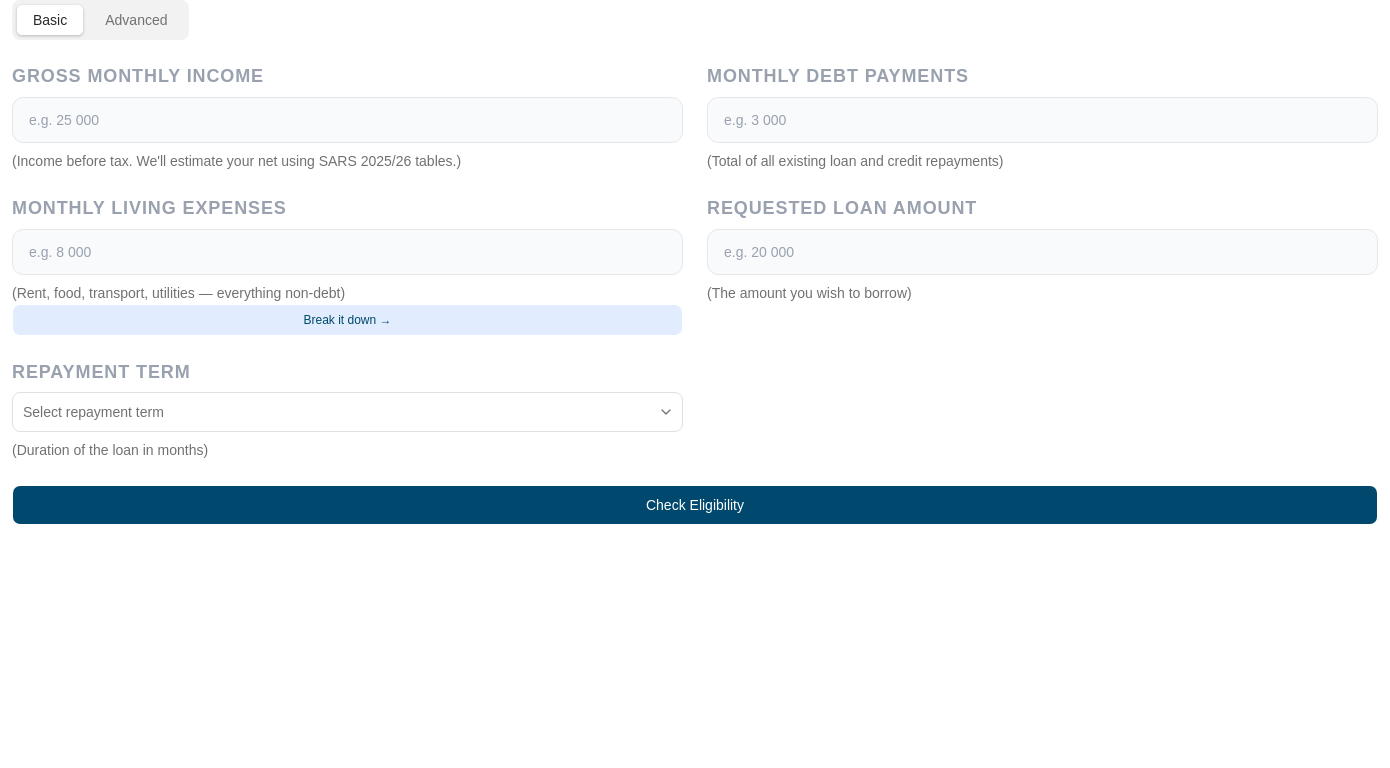
LoanSimulatorForm › shows validation errors when submitted empty
The image size is (1390, 768).
Click the button "Check Eligibility" at (695,505), box [12,485,1378,525]
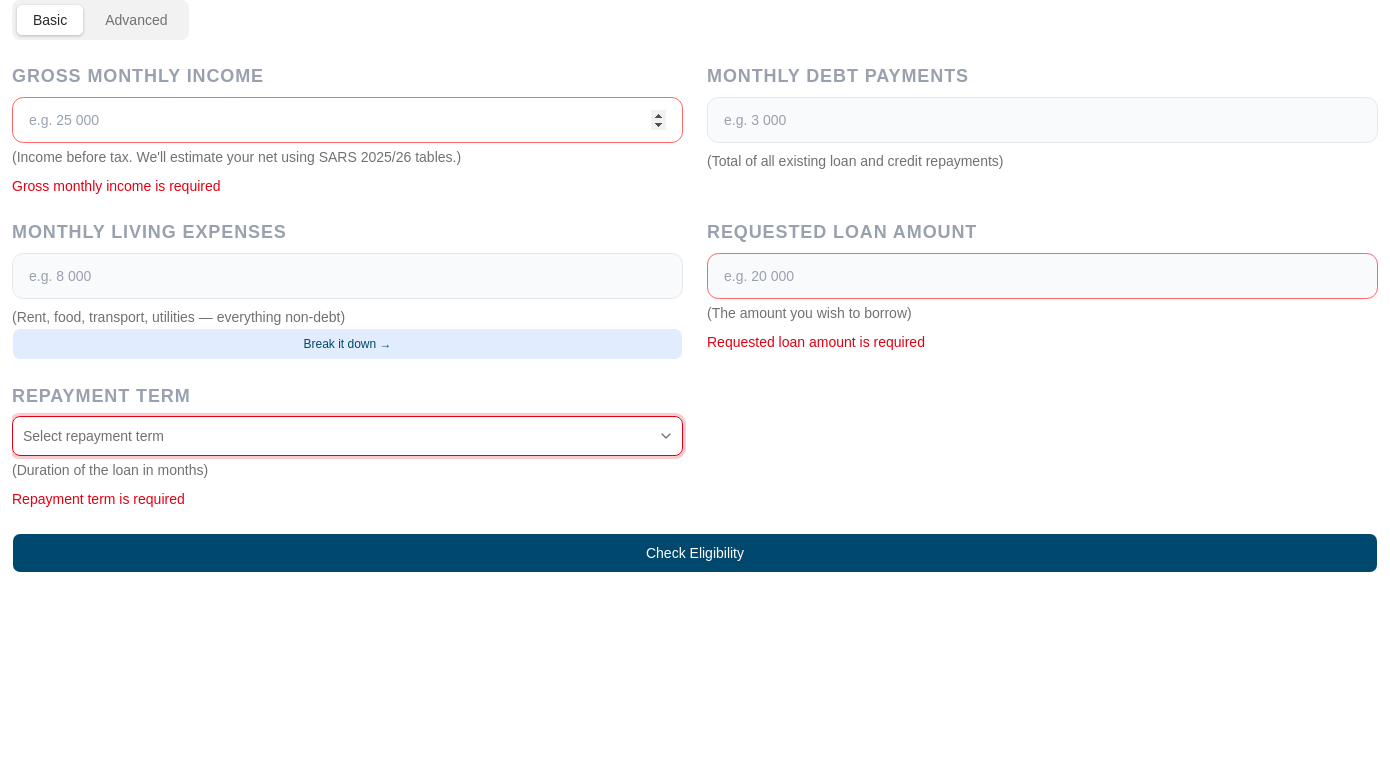
Now the text "Gross monthly income is required" is shown, box [12,178,220,194]
